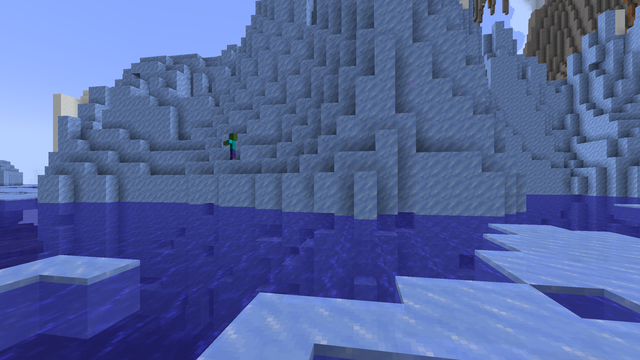zombies: (228, 133, 237, 154)
